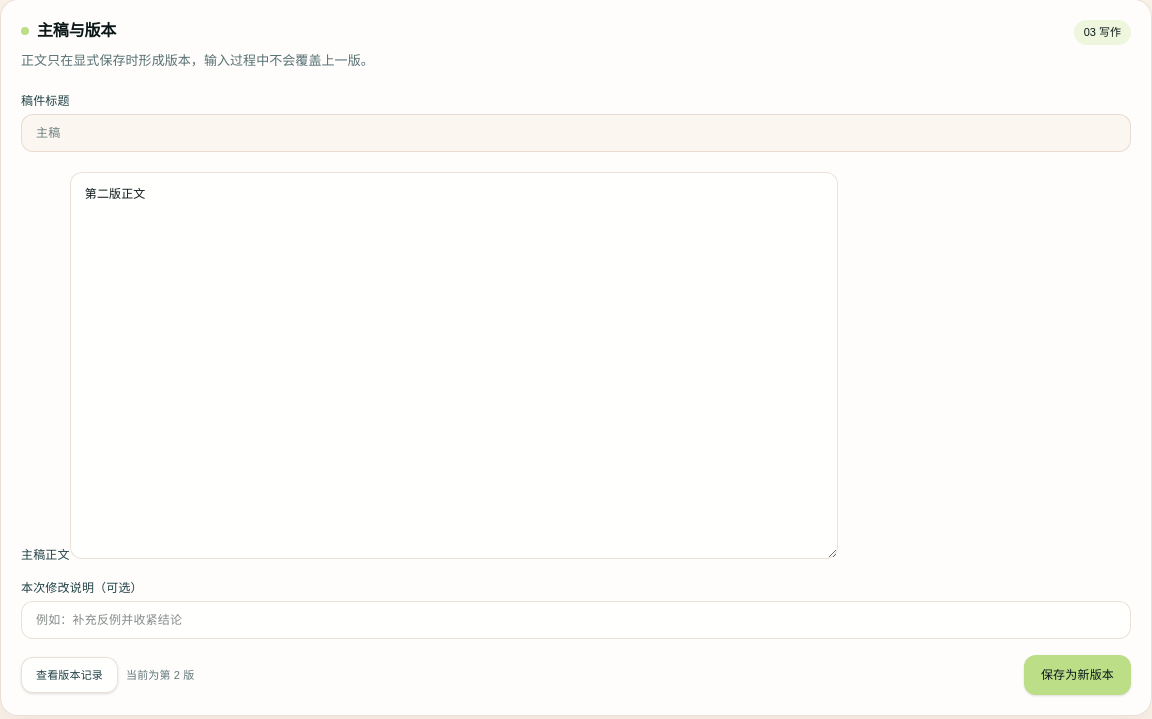
Test: ProjectDraftEditor › 历史版本可用同一核验面板查看自己的引用和 provenance
Click the button "查看版本记录": click(70, 676) [21,658,118,694]
(page scrolled)
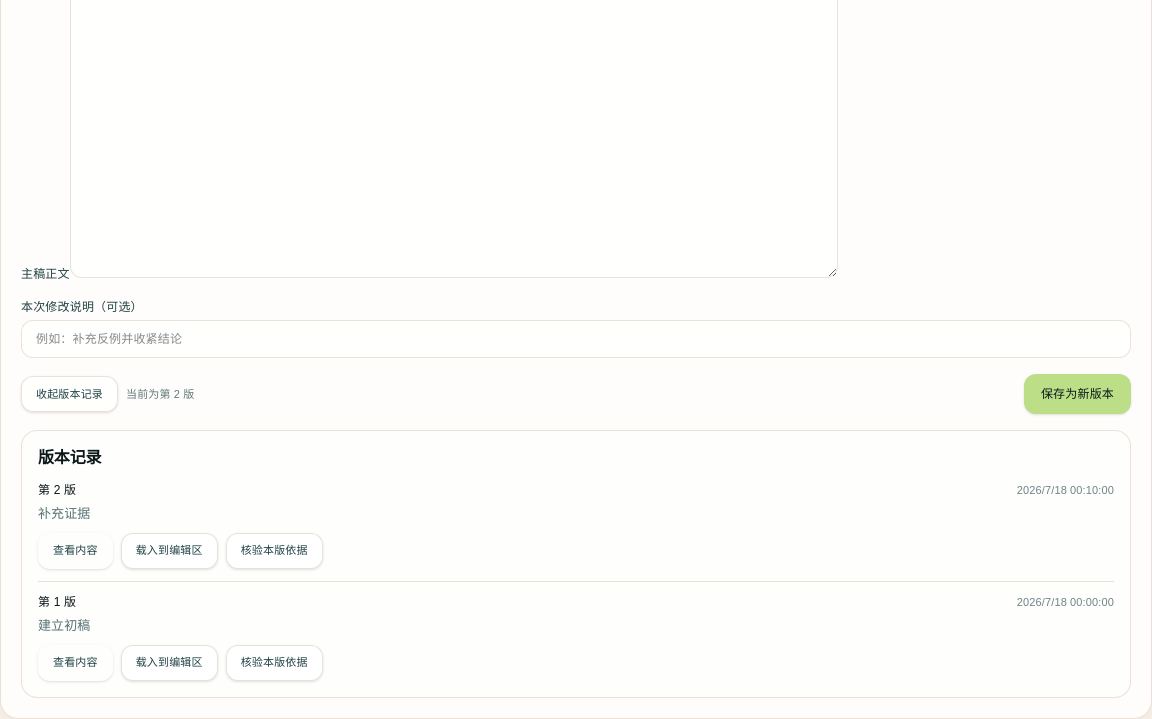
Click the button with aria-label "核验第 1 版依据": click(274, 663) [226,645,323,681]
(page scrolled)
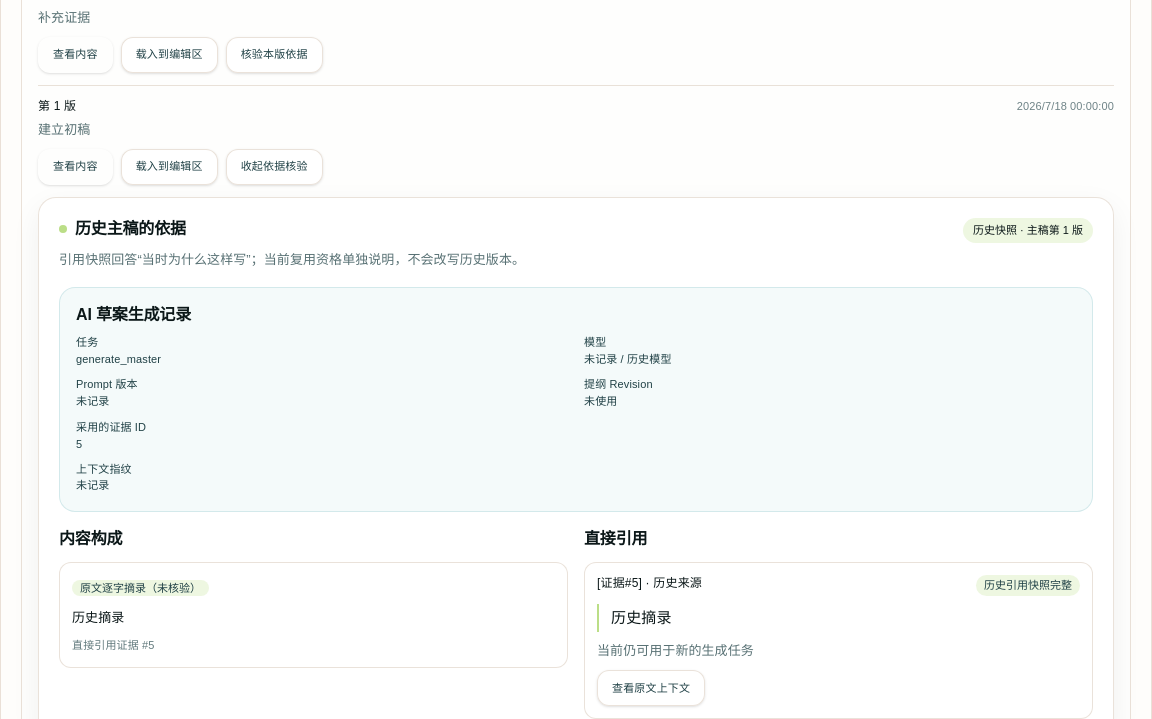
Result: the heading "历史主稿的依据" is shown at [75,218,186,241]
Result: the text "历史摘录" below "原文逐字摘录（未核验）" is shown at [72,610,124,625]
Result: the text "未记录 / 历史模型" is shown at [584,353,672,365]
